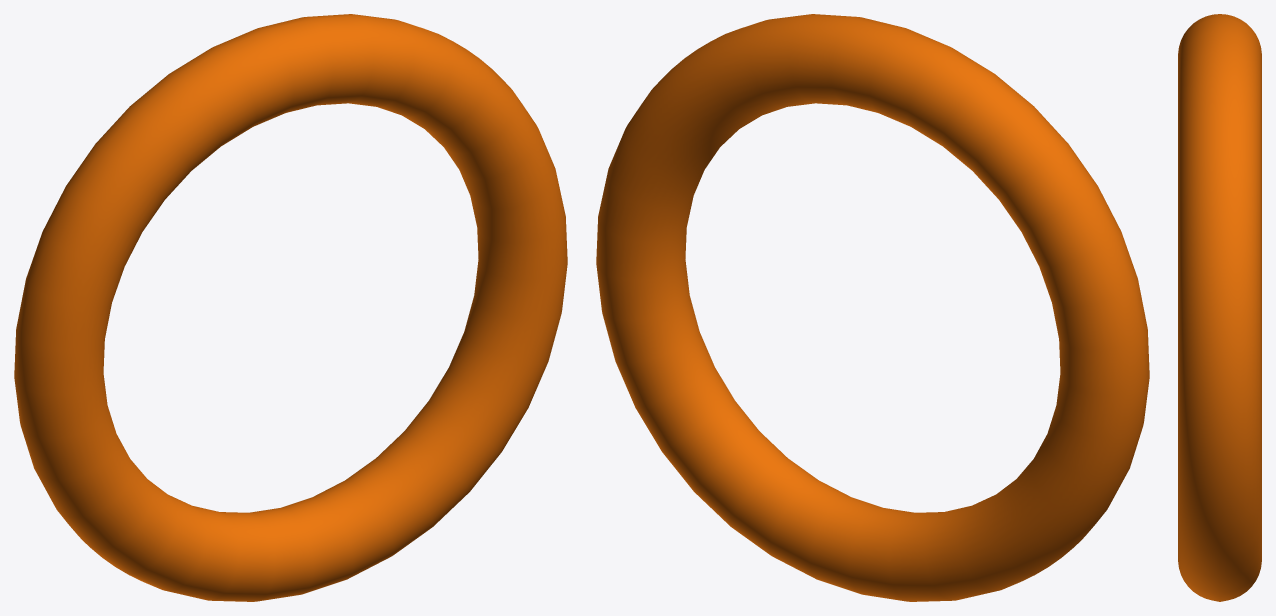
File: Note.dae
The picture shows the model from 3 angles, left to right: view 1: azimuth 30°, elevation 25°; view 2: azimuth 150°, elevation 25°; view 3: azimuth 270°, elevation 25°; orthographic projection. The views are drawn at different scales.
Parts seen in each view (by area): view 1: ID2; view 2: ID2; view 3: ID2.
Boxes of the visible parts, bbox=[...] form: ID2: bbox=[14, 14, 567, 601]; ID2: bbox=[596, 14, 1149, 601]; ID2: bbox=[1178, 14, 1261, 601].
Size of the model in its own units: 0.3554 by 0.0508 by 0.3556.
